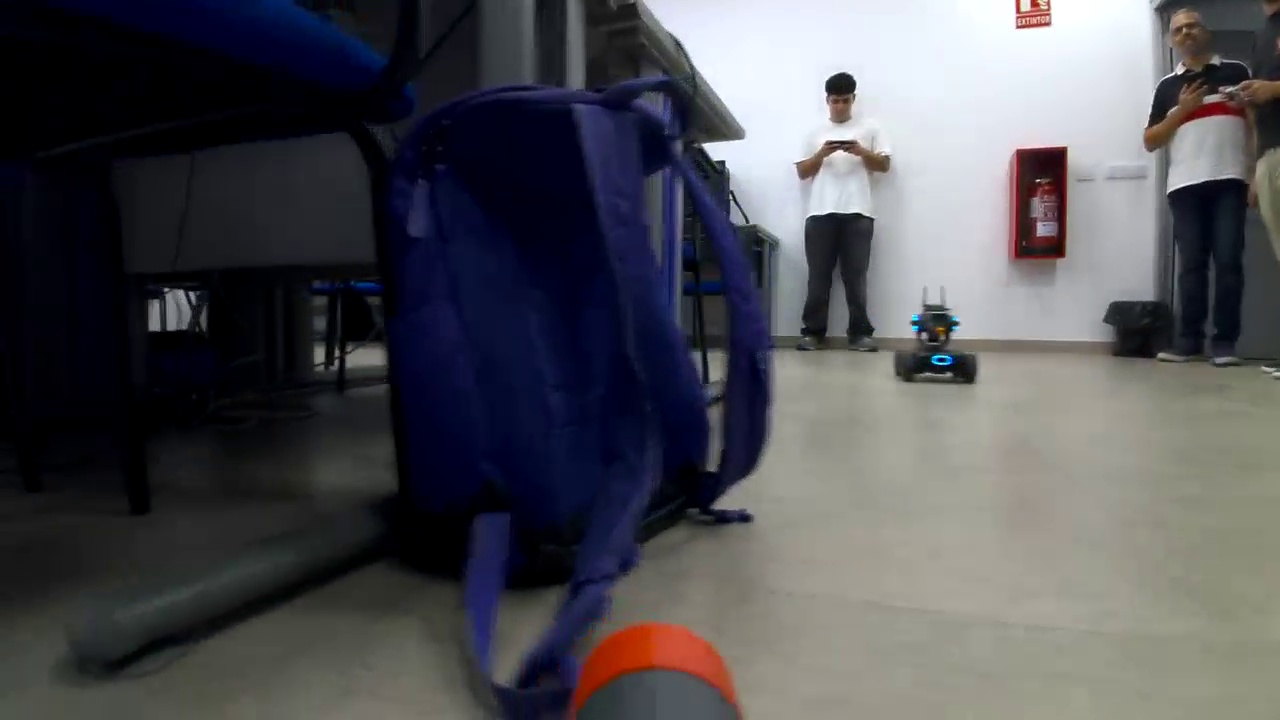robot: (888, 300, 988, 385)
